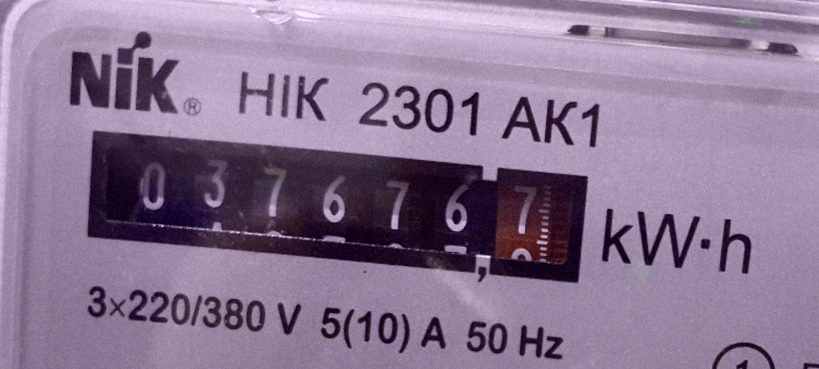0: (134, 155, 172, 213)
3: (197, 152, 230, 211)
6: (315, 167, 352, 224), (439, 177, 473, 234)
7: (377, 174, 412, 235), (255, 160, 290, 219), (507, 179, 539, 237)
screen: (66, 111, 605, 301)
